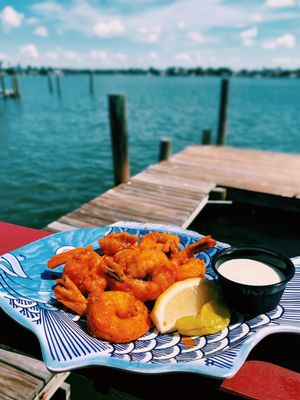pizza: (210, 246, 295, 318)
